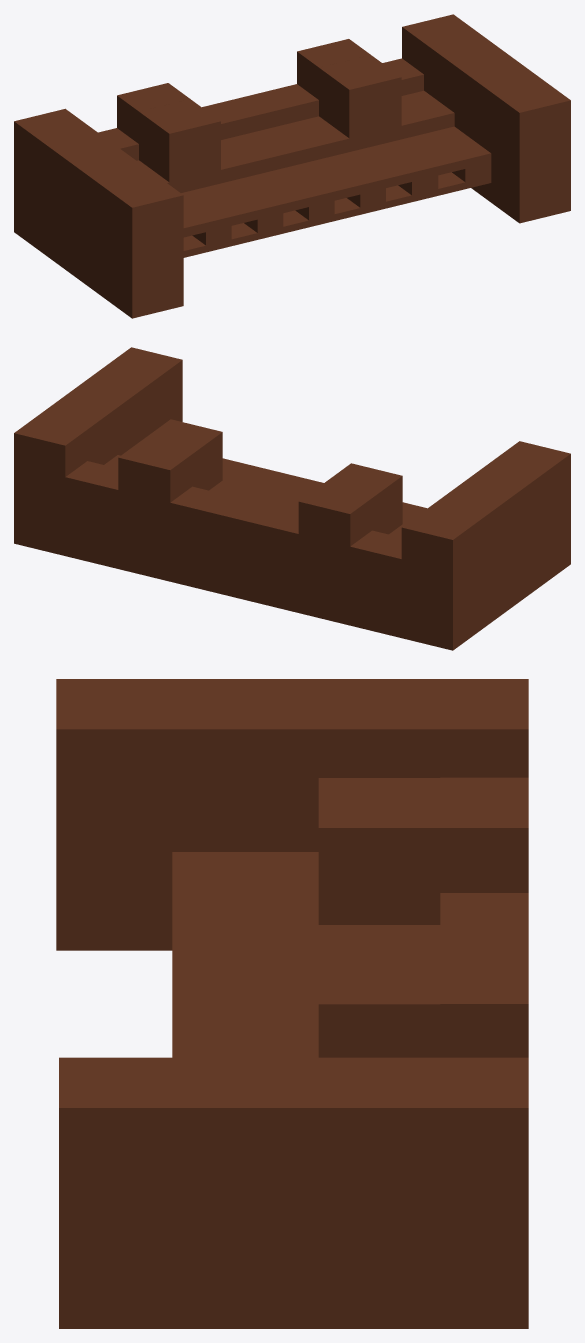
The model's file is bulding1.fbx.
The picture shows the model from 3 angles, top to bottom: view 1: azimuth 30°, elevation 25°; view 2: azimuth 150°, elevation 25°; view 3: azimuth 270°, elevation 25°; orthographic projection. The views are drawn at different scales.
Visible parts, largest first — view 1: Cube.004; view 2: Cube.004; view 3: Cube.004.
Boxes of the visible parts, x1,y1,x2,y2 form: Cube.004: [14, 14, 570, 318]; Cube.004: [14, 347, 570, 650]; Cube.004: [56, 679, 528, 1328].
Bounding box in the file's own units: 8012 × 4176 × 17204.
